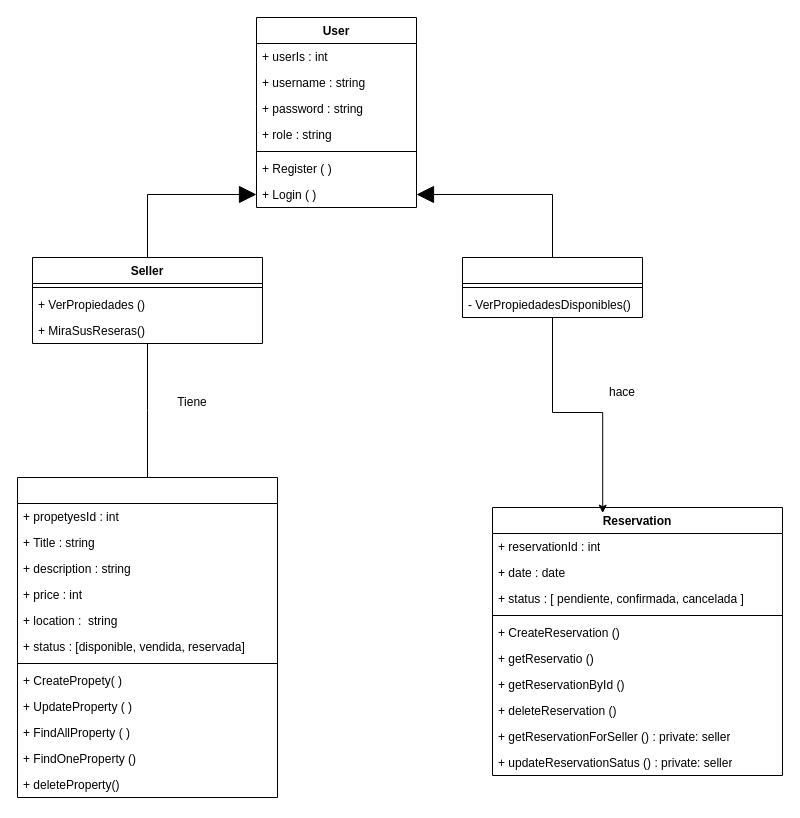
Some shapes in this 800 by 818 pixel diagram are drawn without their labels. The box of each missing label's shape, as (x1, y1, x2, y2) in pixels:
Client: (462, 256, 642, 318)
Propertyes: (16, 476, 278, 798)
